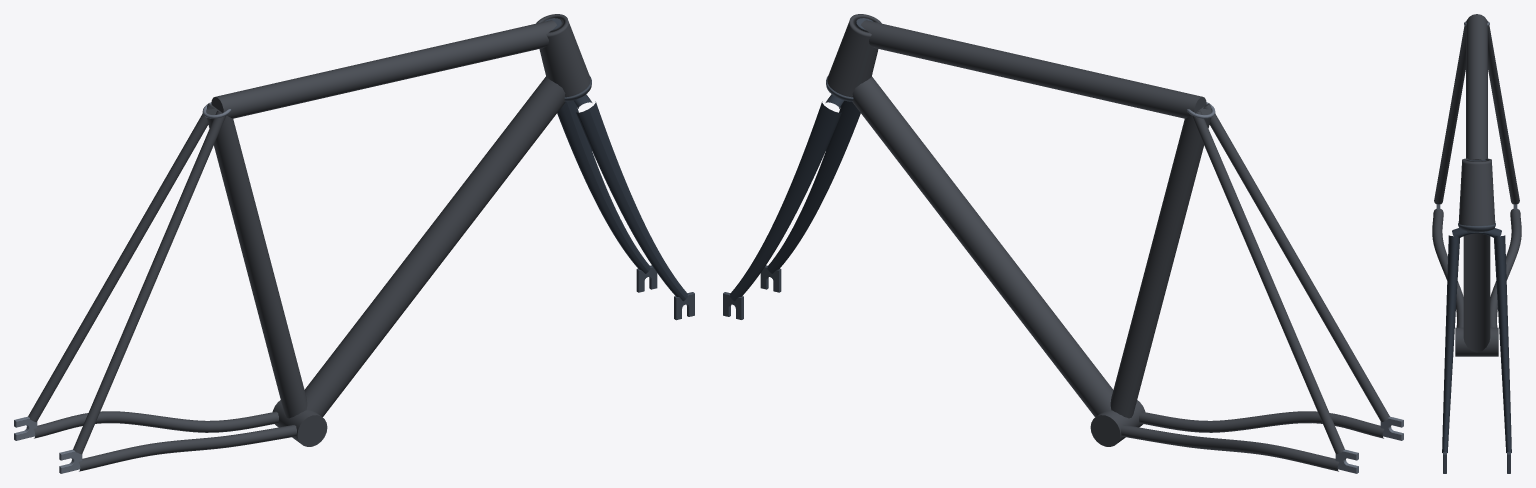
The model's file is skream-magnum-xs.glb.
3 renders of one model, left to right at view 1: azimuth 30°, elevation 25°; view 2: azimuth 150°, elevation 25°; view 3: azimuth 270°, elevation 25°, orthographic. The views are drawn at different scales.
Parts seen in each view (by area): view 1: paint_down, paint_top, paint_seat, paint_seatstay_1, paint_seatstay_-1, fork_blade_1, fork_blade_-1, paint_chainstay_-1, paint_chainstay_1, paint_head, paint_bottom_bracket; view 2: paint_down, paint_top, paint_seat, paint_seatstay_-1, paint_seatstay_1, fork_blade_-1, fork_blade_1, paint_chainstay_1, paint_chainstay_-1, paint_head, paint_bottom_bracket; view 3: paint_down, paint_top, paint_head, fork_blade_-1, fork_blade_1, paint_seatstay_-1, paint_seatstay_1, paint_chainstay_-1, paint_chainstay_1, paint_bottom_bracket, fork_crown, fork_headset_lower.
Boxes of the visible parts, left/top/right/bottom form: paint_down: left=304, top=76, right=565, bottom=417; paint_top: left=211, top=20, right=556, bottom=118; paint_seat: left=206, top=107, right=307, bottom=418; paint_seatstay_1: left=73, top=110, right=226, bottom=454; paint_seatstay_-1: left=28, top=103, right=214, bottom=422; fork_blade_1: left=576, top=101, right=687, bottom=301; fork_blade_-1: left=557, top=101, right=650, bottom=273; paint_chainstay_-1: left=33, top=411, right=278, bottom=438; paint_chainstay_1: left=78, top=425, right=296, bottom=471; paint_head: left=536, top=14, right=590, bottom=97; paint_bottom_bracket: left=272, top=400, right=327, bottom=446; paint_down: left=852, top=76, right=1113, bottom=417; paint_top: left=861, top=20, right=1206, bottom=118; paint_seat: left=1110, top=107, right=1211, bottom=418; paint_seatstay_-1: left=1191, top=110, right=1344, bottom=454; paint_seatstay_1: left=1203, top=103, right=1389, bottom=422; fork_blade_-1: left=730, top=101, right=841, bottom=301; fork_blade_1: left=767, top=101, right=860, bottom=273; paint_chainstay_1: left=1139, top=411, right=1384, bottom=438; paint_chainstay_-1: left=1121, top=425, right=1339, bottom=471; paint_head: left=827, top=14, right=881, bottom=97; paint_bottom_bracket: left=1090, top=400, right=1145, bottom=446; paint_down: left=1463, top=233, right=1490, bottom=352; paint_top: left=1466, top=14, right=1487, bottom=160; paint_head: left=1458, top=158, right=1495, bottom=225; fork_blade_-1: left=1494, top=235, right=1511, bottom=452; fork_blade_1: left=1442, top=235, right=1459, bottom=452; paint_seatstay_-1: left=1487, top=21, right=1519, bottom=204; paint_seatstay_1: left=1434, top=21, right=1466, bottom=204; paint_chainstay_-1: left=1490, top=209, right=1521, bottom=327; paint_chainstay_1: left=1432, top=209, right=1463, bottom=327; paint_bottom_bracket: left=1455, top=327, right=1498, bottom=356; fork_crown: left=1452, top=228, right=1501, bottom=238; fork_headset_lower: left=1458, top=223, right=1495, bottom=232.
Bounding box in the file's own units: 0.981 × 0.5289 × 0.1397.
